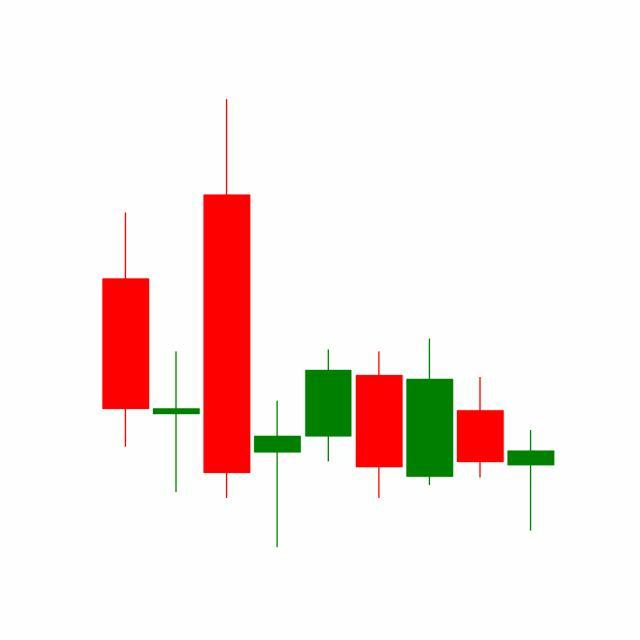Hikkake Pattern: (302, 337, 555, 534)
